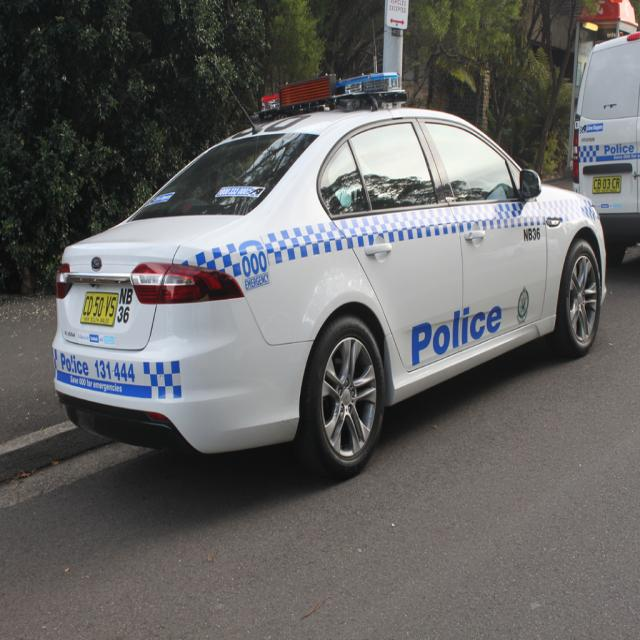other: (35, 89, 627, 487)
